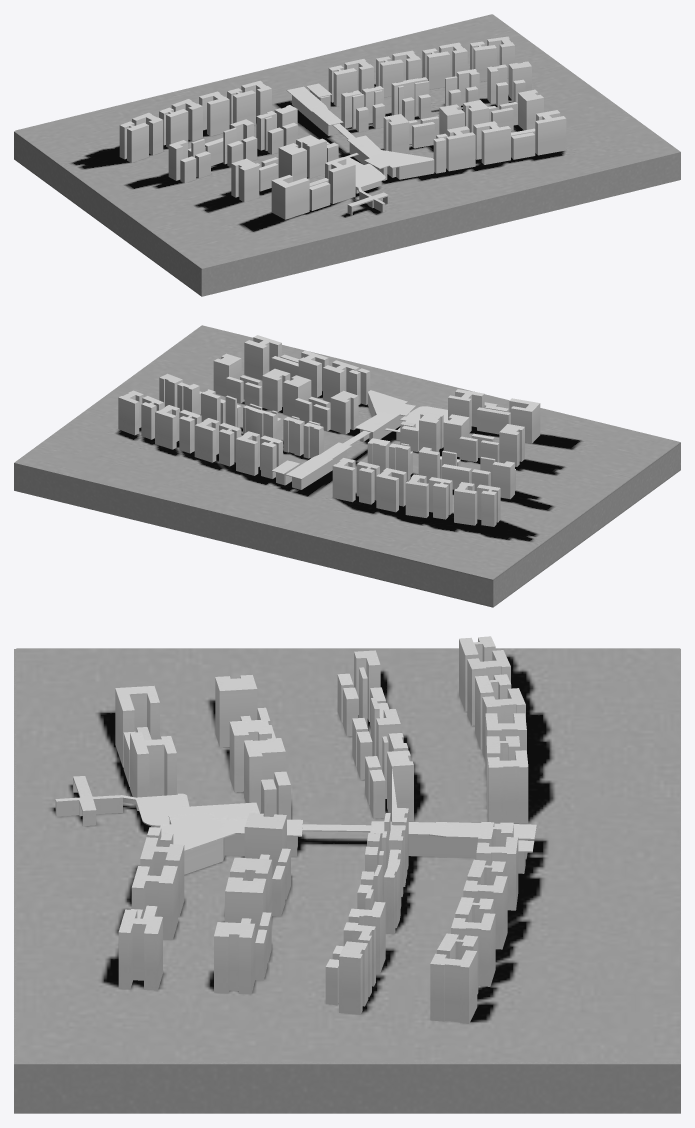
The model's file is environmental1.glb.
The picture shows the model from 3 angles, top to bottom: view 1: azimuth 30°, elevation 25°; view 2: azimuth 150°, elevation 25°; view 3: azimuth 270°, elevation 25°; orthographic projection. The views are drawn at different scales.
Parts seen in each view (by area): view 1: Plane, Building, Cube; view 2: Plane, Building, Cube; view 3: Plane, Building, Cube.
Part boxes in pixels (x1,y1,x2,y2): Plane: (15,14,678,267); Building: (119,36,566,219); Cube: (14,15,680,296); Plane: (15,325,678,578); Building: (118,335,540,526); Cube: (14,325,680,607); Plane: (16,648,680,1061); Building: (55,636,536,1023); Cube: (14,649,680,1113).
Bounding box in the file's own units: 16.18 × 1.95 × 10.98.
3 materials, 3 textured.
